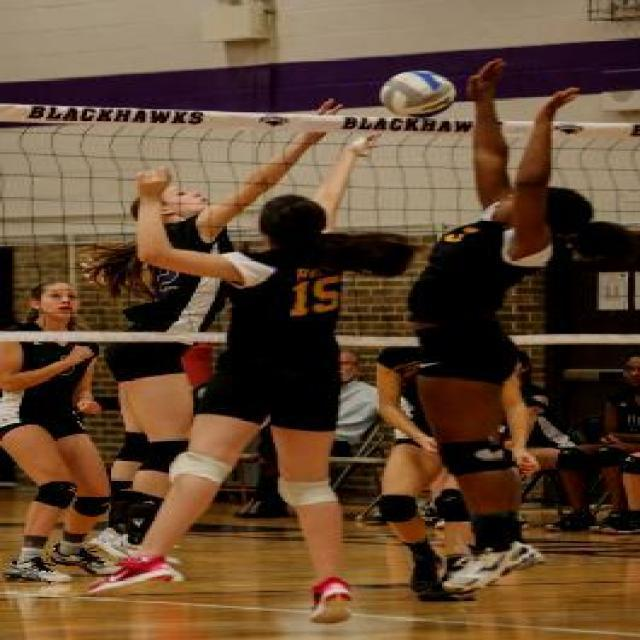volleyball: (381, 69, 456, 118)
